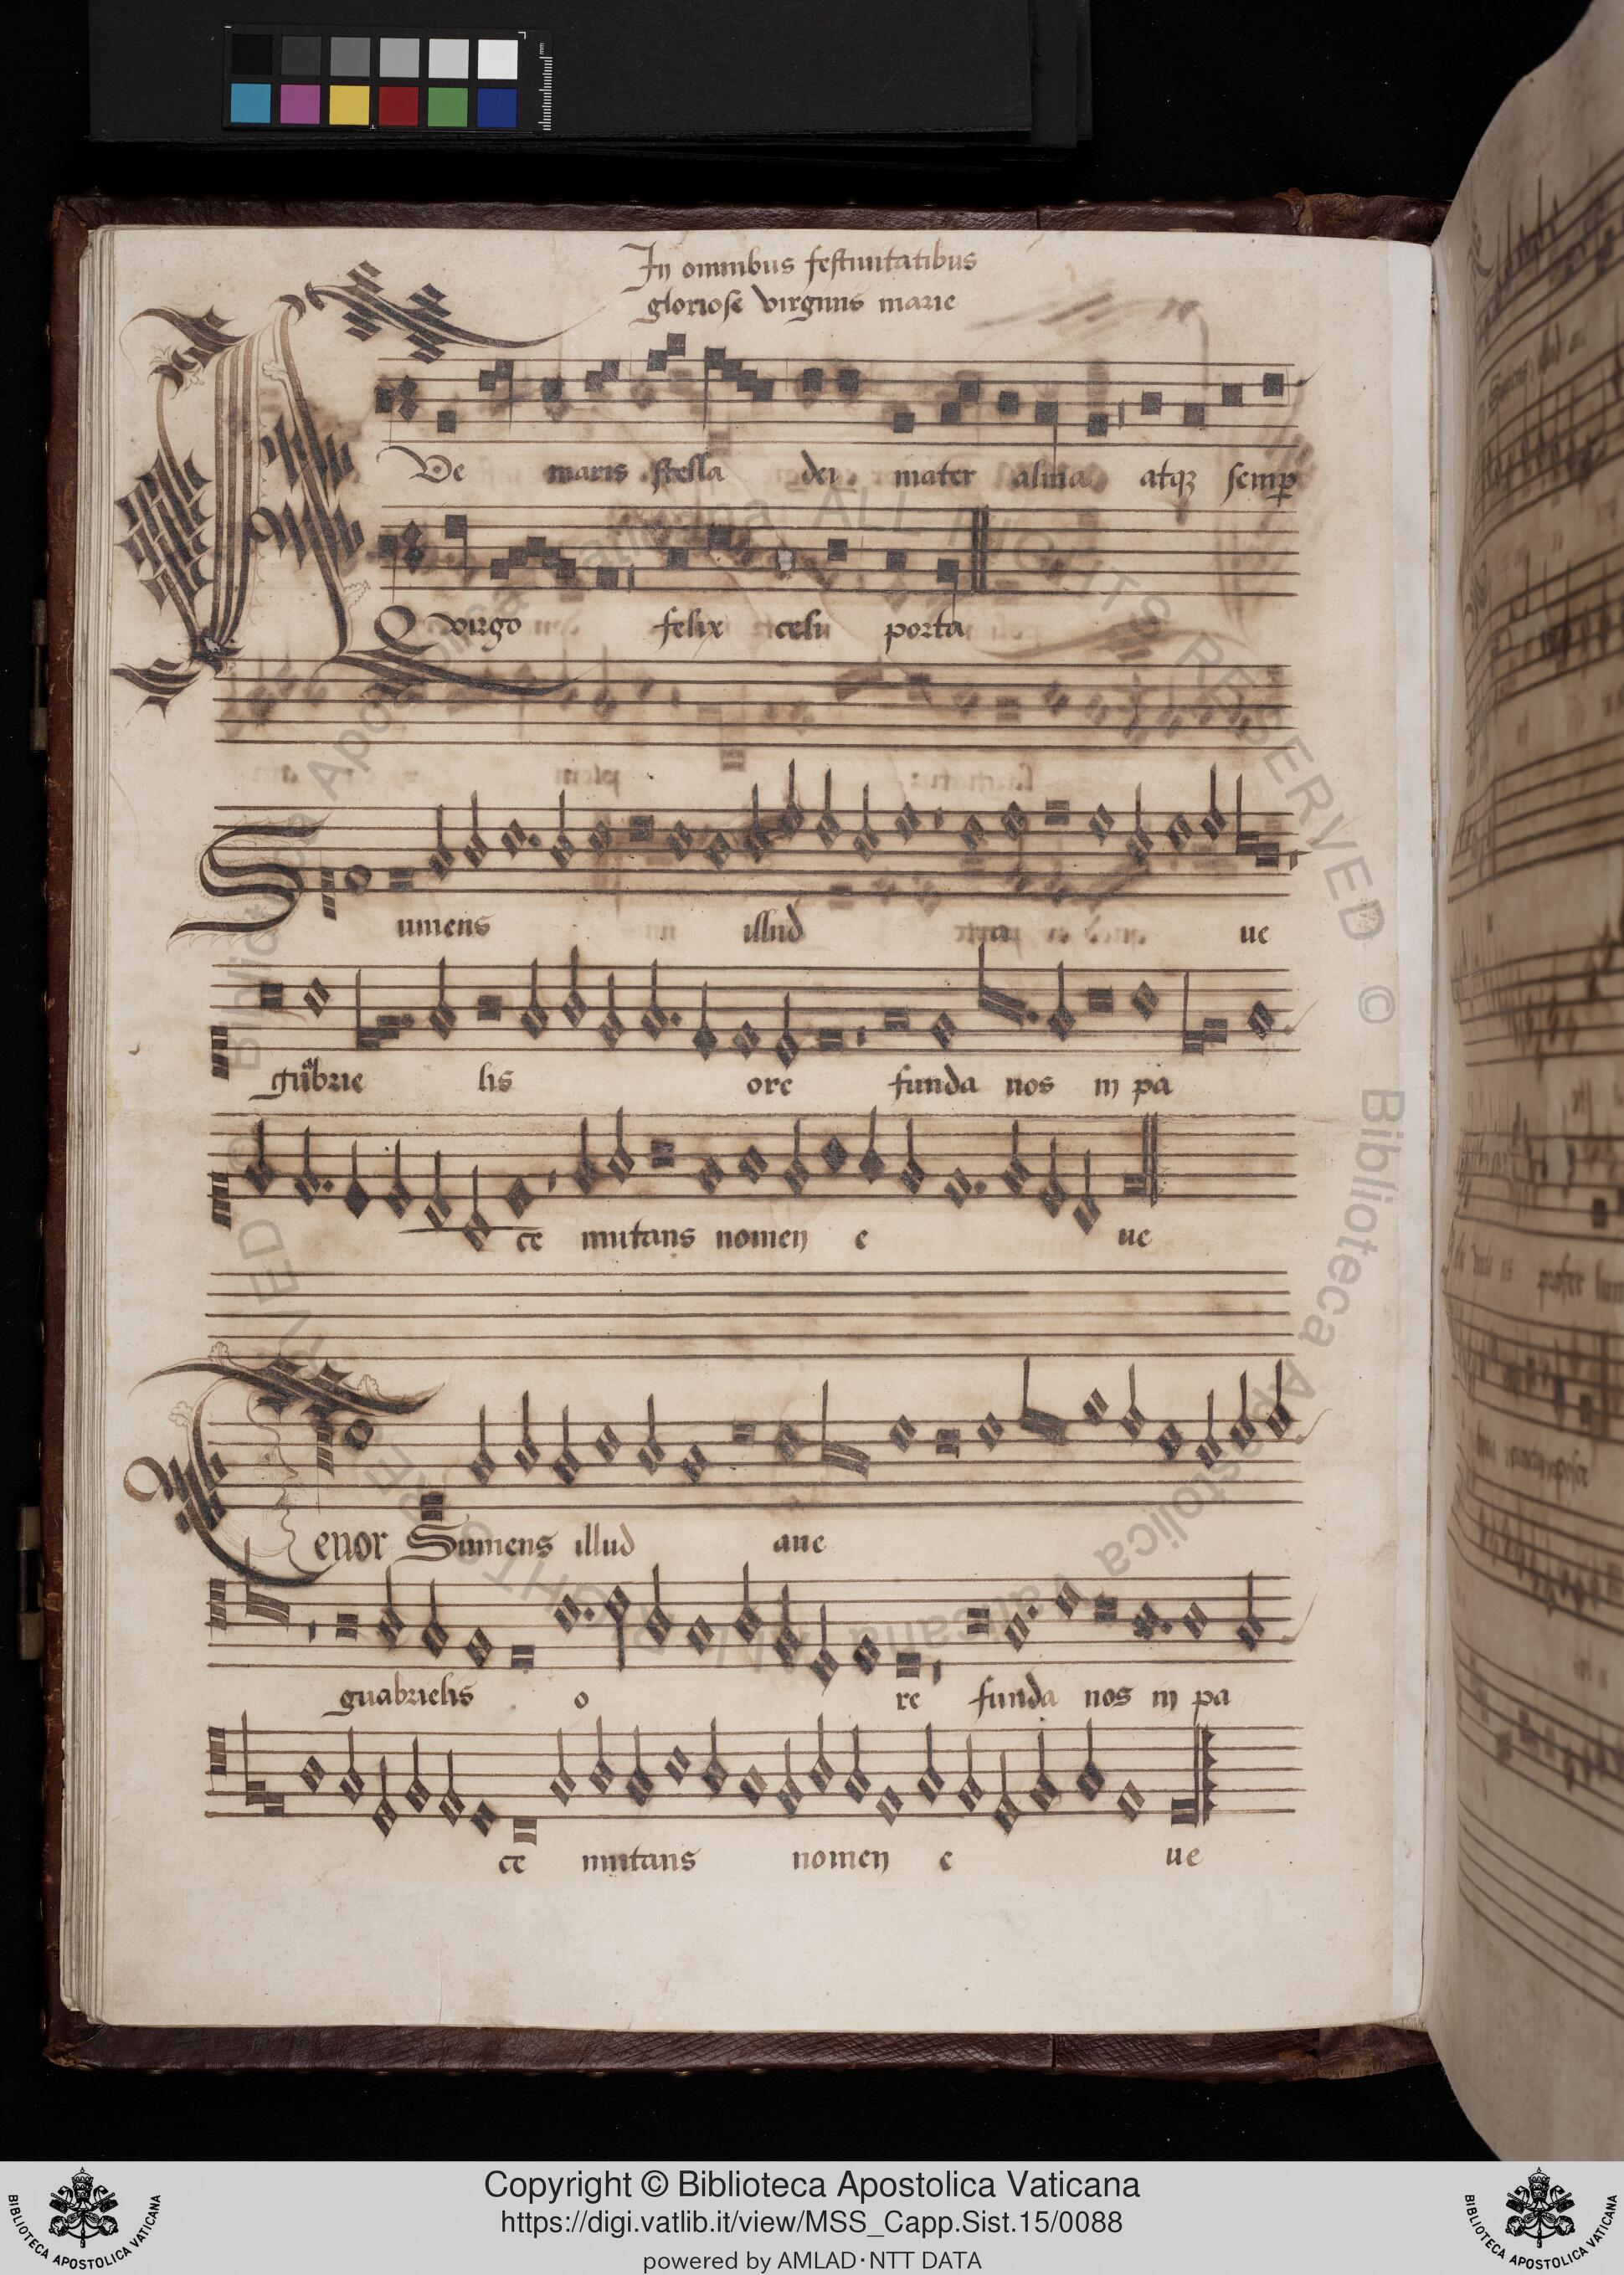barline: (967, 497, 1002, 624)
breve rest: (624, 502, 638, 589)
colored breve_10: (800, 515, 830, 601), (589, 553, 624, 599)
colored breve_6: (703, 509, 742, 560)
colored breve_8: (772, 515, 800, 601), (656, 536, 696, 580), (872, 538, 914, 578), (817, 525, 856, 567)
colored longa_5: (438, 501, 475, 585)
colored longa_9: (932, 545, 968, 627)
f clef_7: (373, 501, 425, 585)
l1colored breve_9: (490, 553, 513, 589)
l2colored breve_7: (522, 529, 543, 562)
l2colored breve_8: (503, 538, 529, 567), (538, 541, 557, 571)
l2colored breve_9: (554, 550, 578, 587)
